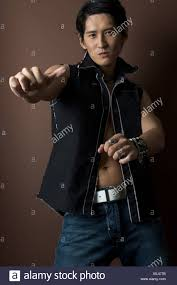asian_male: (71, 4, 133, 68)
